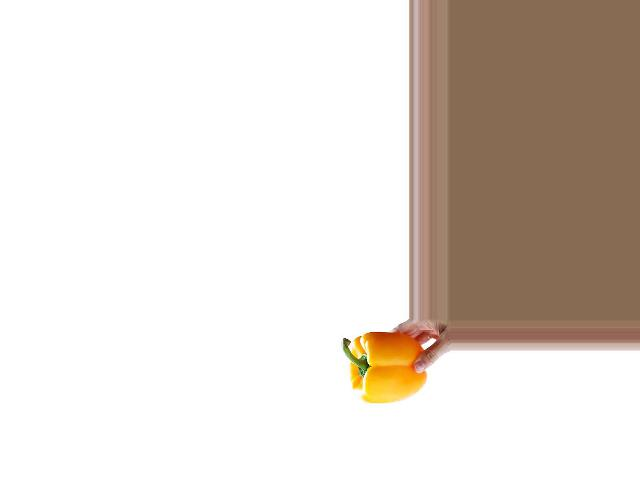bell_pepper: (338, 332, 428, 405)
